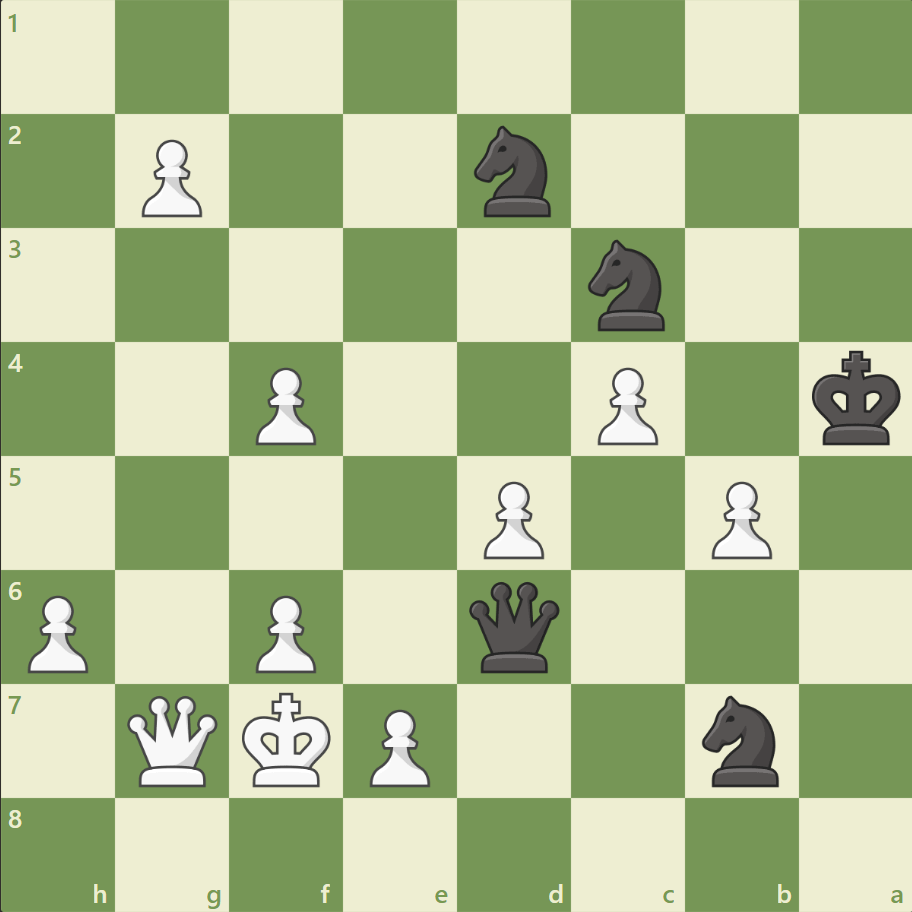K: (238, 685, 338, 793)
P: (247, 586, 322, 677), (20, 586, 95, 677), (701, 473, 776, 564), (474, 473, 549, 564), (247, 359, 322, 450), (133, 132, 208, 223), (361, 700, 435, 791), (588, 359, 662, 450)
Q: (124, 690, 223, 789)
k: (806, 344, 906, 452)
n: (692, 688, 789, 791), (579, 234, 676, 337), (465, 121, 562, 223)
q: (464, 576, 563, 676)
